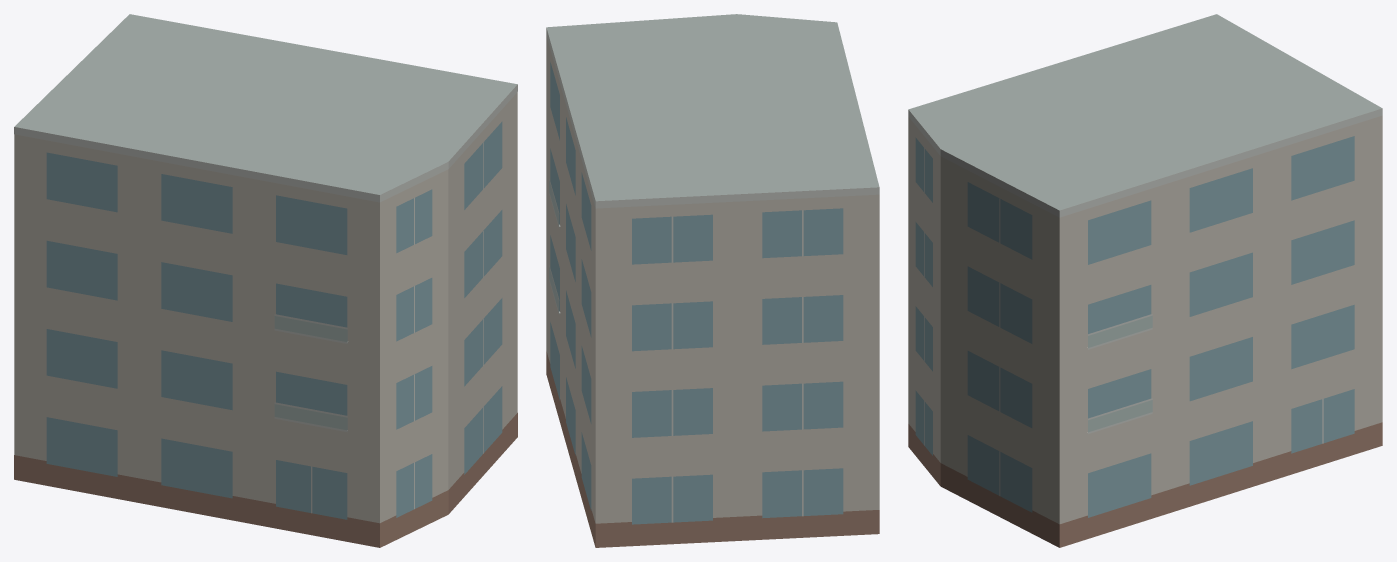
File: survey-upis-32528456.glb
The picture shows the model from 3 angles, left to right: view 1: azimuth 30°, elevation 25°; view 2: azimuth 150°, elevation 25°; view 3: azimuth 270°, elevation 25°; orthographic projection. The views are drawn at different scales.
Visible parts, largest first — view 1: survey-upis-32528456.tmp; view 2: survey-upis-32528456.tmp; view 3: survey-upis-32528456.tmp.
Boxes of the visible parts, x1,y1,x2,y2 form: survey-upis-32528456.tmp: [14, 14, 517, 547]; survey-upis-32528456.tmp: [546, 14, 879, 547]; survey-upis-32528456.tmp: [908, 14, 1382, 547].
Bounding box in the file's own units: 14.51 × 11.6 × 14.79.
